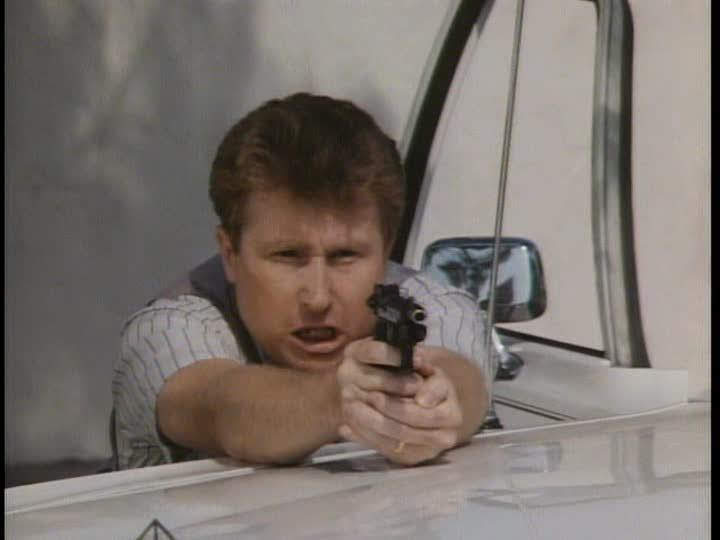gun: (356, 272, 452, 398)
